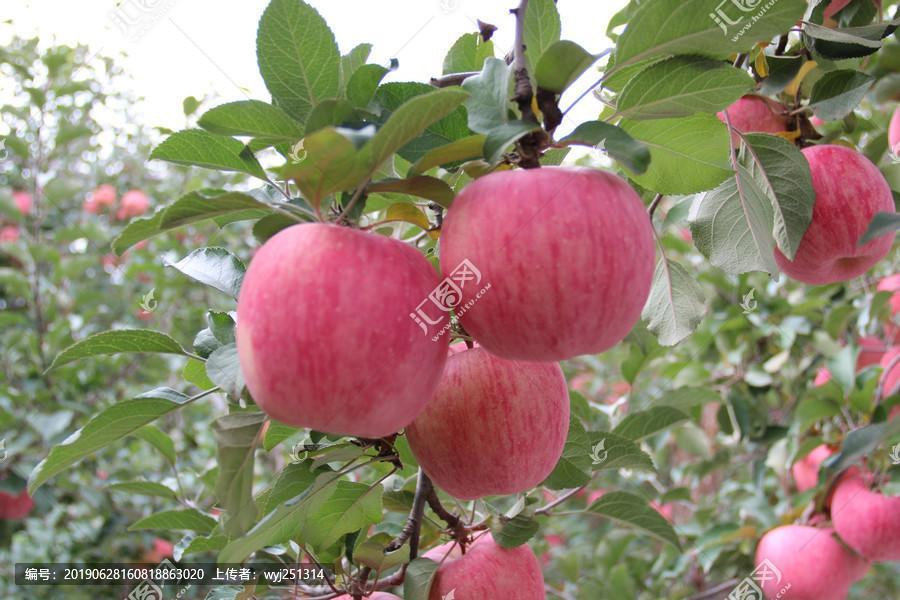apple: (427, 164, 654, 368), (237, 220, 450, 433), (399, 338, 561, 503), (765, 139, 897, 286), (428, 528, 542, 599), (82, 183, 148, 224), (81, 182, 119, 218), (114, 189, 150, 223)
